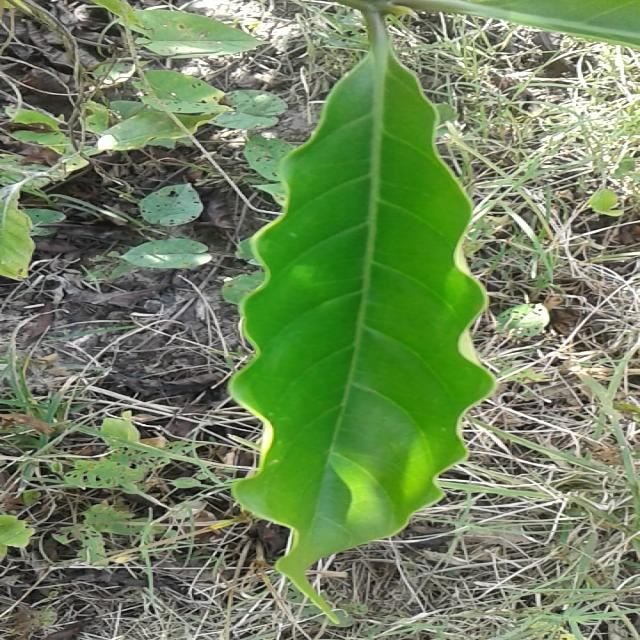Sanas: (227, 4, 497, 603)
